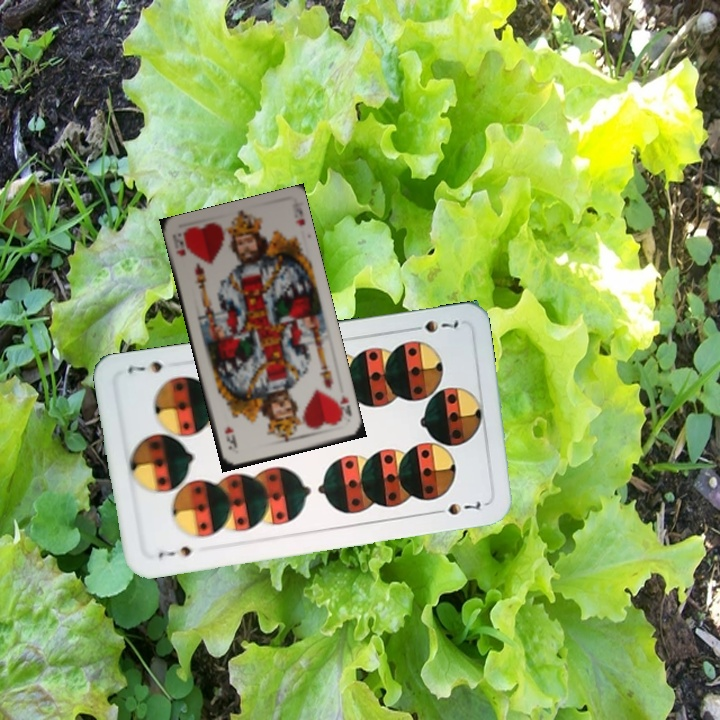HK: (332, 392, 354, 423), (172, 234, 189, 258)
S7: (404, 315, 461, 335), (154, 542, 196, 561)
